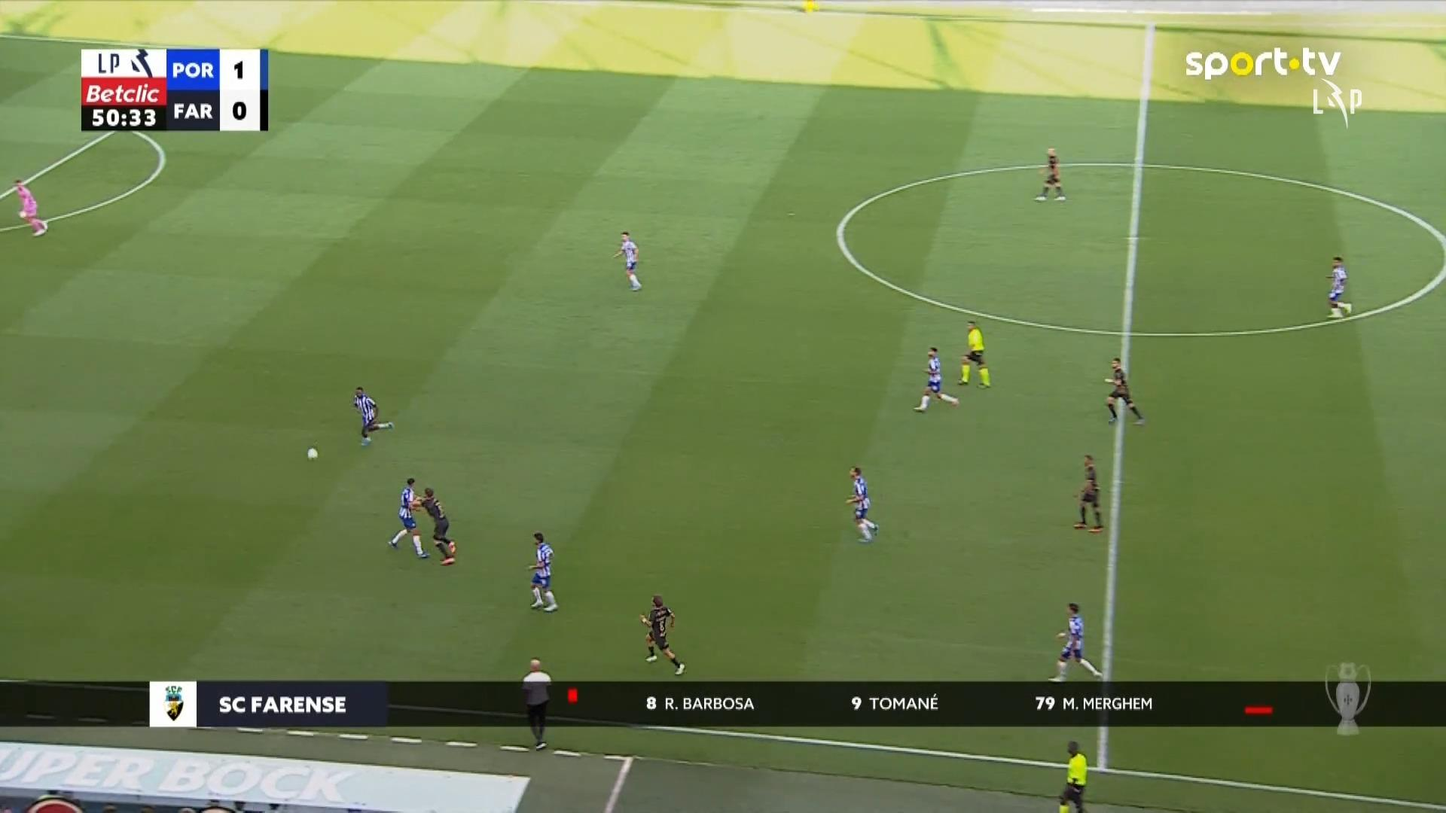ball: (307, 447, 318, 460)
goalkeeper: (12, 178, 47, 236)
player: (1047, 601, 1103, 681), (639, 594, 685, 675), (386, 477, 430, 559), (913, 345, 959, 412), (419, 486, 457, 565), (1103, 356, 1145, 425), (844, 464, 878, 543), (526, 531, 558, 612), (352, 385, 393, 446), (1072, 453, 1103, 532), (612, 230, 642, 291), (1034, 146, 1066, 201), (1326, 255, 1353, 317)
referee: (956, 318, 991, 388), (1057, 739, 1088, 811)
